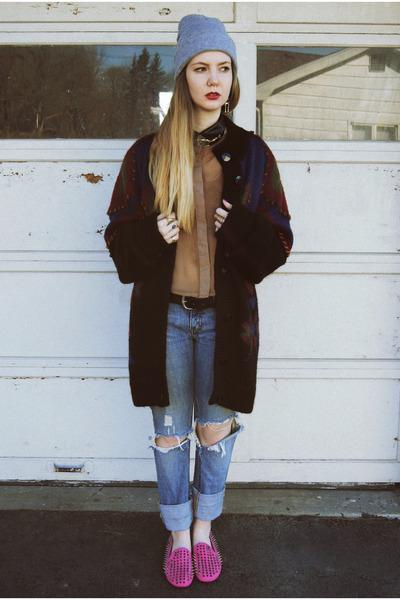hat: (162, 14, 251, 59)
jacket: (104, 108, 293, 416)
pants: (149, 304, 233, 539)
shirt: (172, 137, 225, 299)
shoe: (163, 540, 222, 586)
